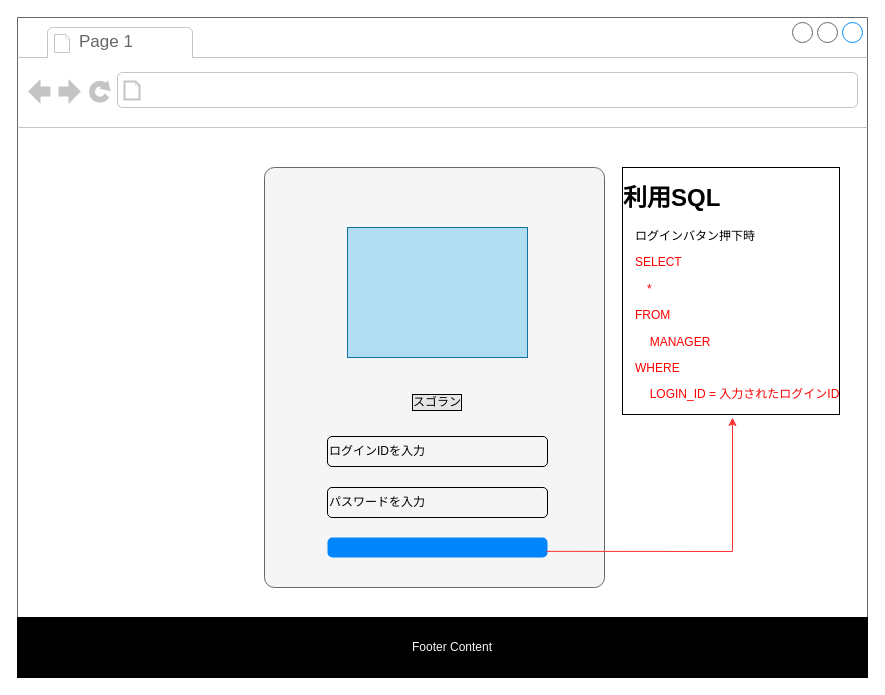
The diagram is 885 pixels wide and 695 high, and some of its shapes have lost their labels. The shapes that lost their labels are listed below. From the top down, each one's box as (x1, y1, x2, y2) in pixels, then its label:
(346, 226, 528, 358): ロゴ
(327, 537, 547, 557): ログイン
